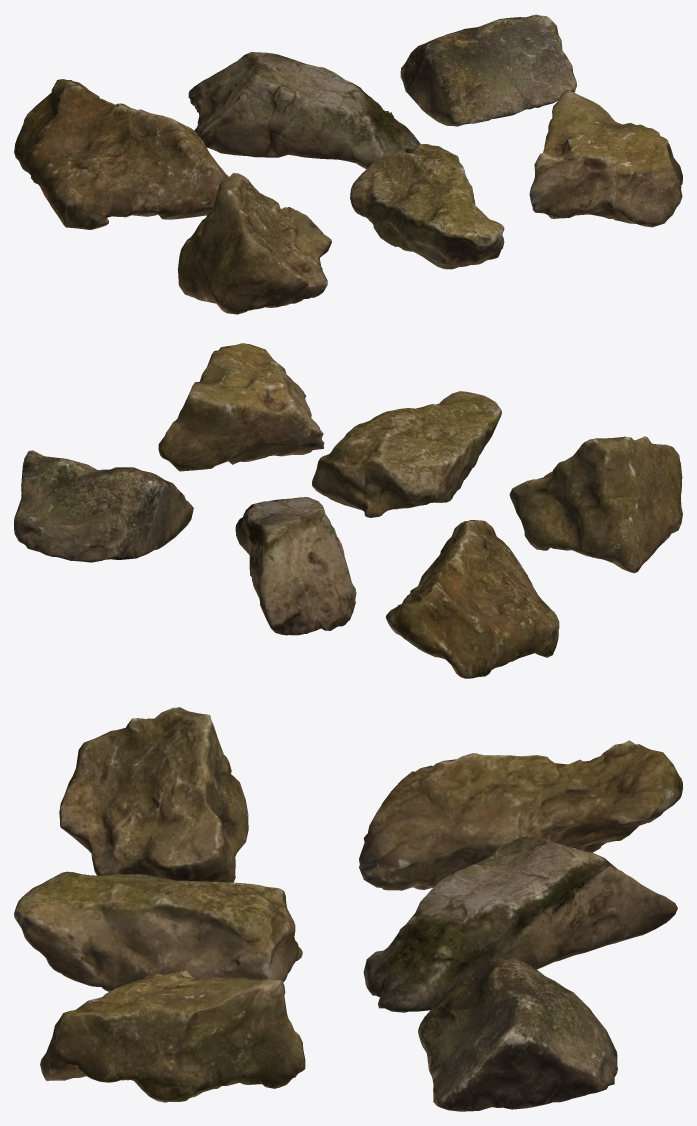
The model's file is mossrock_a_lod0.glb.
The picture shows the model from 3 angles, top to bottom: view 1: azimuth 30°, elevation 25°; view 2: azimuth 150°, elevation 25°; view 3: azimuth 270°, elevation 25°; orthographic projection. The views are drawn at different scales.
Parts seen in each view (by area): view 1: rock_moss_set_01_rock01, rock_moss_set_01_rock02, rock_moss_set_01_rock06, rock_moss_set_01_rock04, rock_moss_set_01_rock03, rock_moss_set_01_rock05; view 2: rock_moss_set_01_rock04, rock_moss_set_01_rock01, rock_moss_set_01_rock05, rock_moss_set_01_rock03, rock_moss_set_01_rock06, rock_moss_set_01_rock02; view 3: rock_moss_set_01_rock01, rock_moss_set_01_rock02, rock_moss_set_01_rock05, rock_moss_set_01_rock04, rock_moss_set_01_rock06, rock_moss_set_01_rock03.
Part boxes in pixels (x1,y1,x2,y2): rock_moss_set_01_rock01: (14,79,228,229); rock_moss_set_01_rock02: (188,52,420,169); rock_moss_set_01_rock06: (529,90,682,227); rock_moss_set_01_rock04: (178,172,331,314); rock_moss_set_01_rock03: (400,14,576,126); rock_moss_set_01_rock05: (350,144,504,269); rock_moss_set_01_rock04: (509,436,682,573); rock_moss_set_01_rock01: (385,520,559,678); rock_moss_set_01_rock05: (312,391,501,517); rock_moss_set_01_rock03: (14,450,193,562); rock_moss_set_01_rock06: (158,343,324,471); rock_moss_set_01_rock02: (235,497,356,635); rock_moss_set_01_rock01: (359,740,682,890); rock_moss_set_01_rock02: (363,836,677,1012); rock_moss_set_01_rock05: (14,871,302,991); rock_moss_set_01_rock04: (59,707,248,882); rock_moss_set_01_rock06: (40,970,305,1102); rock_moss_set_01_rock03: (418,956,617,1111).
Bounding box in the file's own units: 8 × 1.76 × 6.94.
1 material, 1 textured.
